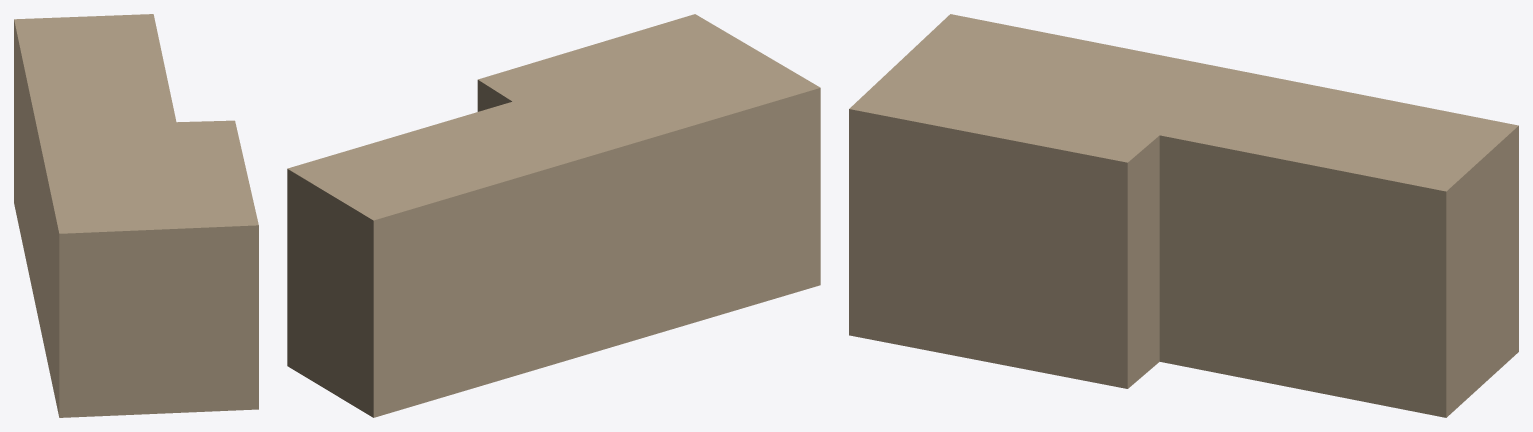
Rendered from bld_99020524.dae.
The picture shows the model from 3 angles, left to right: view 1: azimuth 30°, elevation 25°; view 2: azimuth 150°, elevation 25°; view 3: azimuth 270°, elevation 25°; orthographic projection. The views are drawn at different scales.
Visible parts, largest first — view 1: bld_99020524; view 2: bld_99020524; view 3: bld_99020524.
Boxes of the visible parts, left/top/right/bottom form: bld_99020524: left=14, top=14, right=258, bottom=417; bld_99020524: left=287, top=14, right=820, bottom=417; bld_99020524: left=849, top=14, right=1518, bottom=417.
Size of the model in its own units: 13.46 by 21.45 by 8.
